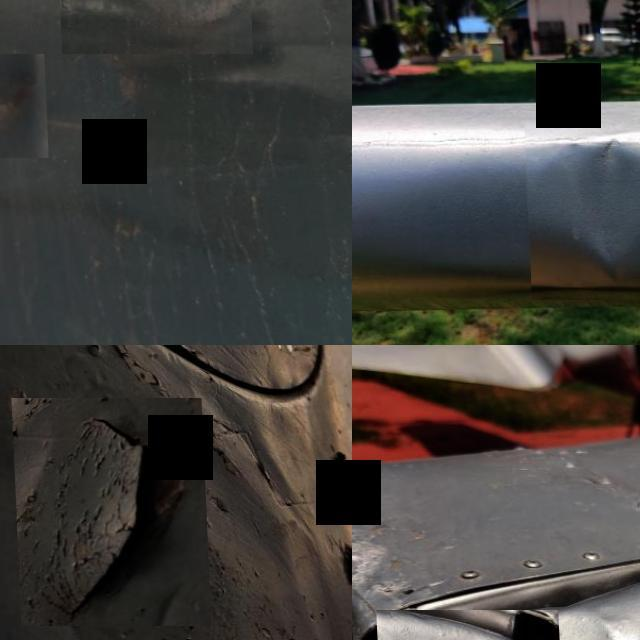Crack: (8, 398, 205, 626)
Dent: (522, 120, 640, 299), (54, 0, 250, 54), (0, 54, 45, 158)
